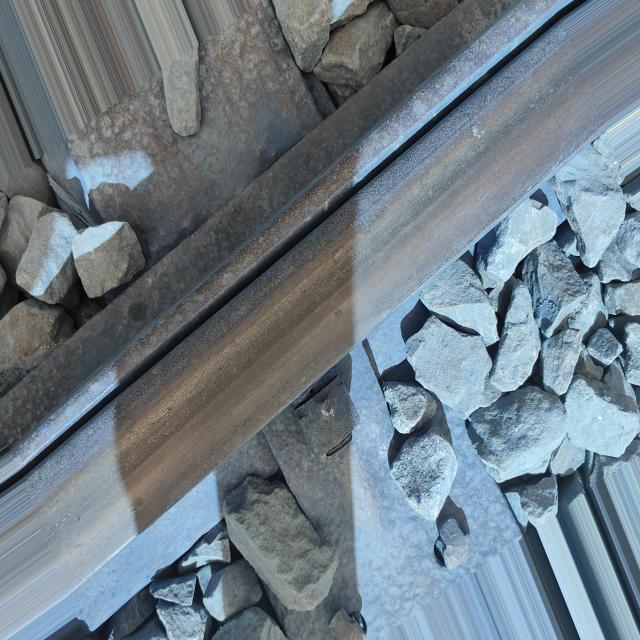non-defective: (2, 2, 637, 637)
